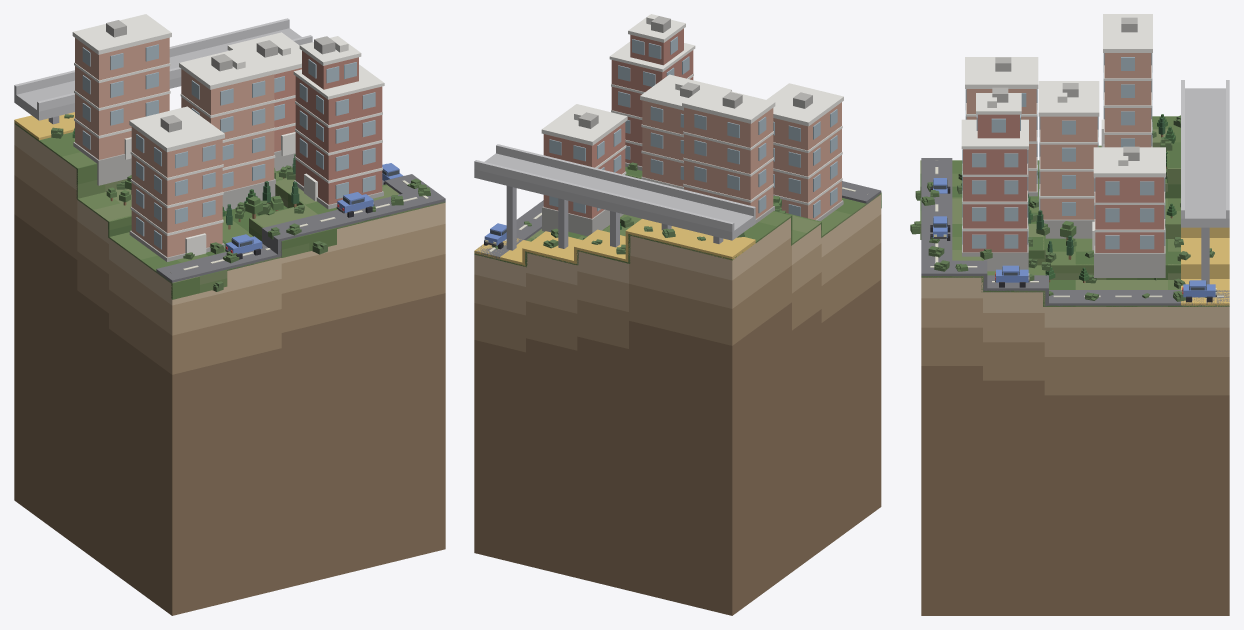
File: block_7_engineered_15.glb
3 views of the same model, side by side, from view 1: azimuth 30°, elevation 25°; view 2: azimuth 150°, elevation 25°; view 3: azimuth 270°, elevation 25° (orthographic). The views are drawn at different scales.
Visible parts, largest first — view 1: Patch_UpperLeft_b04_ES, Res_UL_09_ES, Res_UL_06_ES, Res_UL_05_ES, Res_UL_08_ES, Green_UpperLeft_j4_b04_ES, Roads_UpperLeft_b04_ES, Bridge_UpperLeft_b04_ES, Res_UL_07_ES, Paver_UpperLeft_b04_ES, ULCar_007_ES, ULCar_006_ES; view 2: Patch_UpperLeft_b04_ES, Bridge_UpperLeft_b04_ES, Res_UL_05_ES, Res_UL_06_ES, Res_UL_09_ES, Res_UL_07_ES, Res_UL_08_ES, Paver_UpperLeft_b04_ES, Green_UpperLeft_j4_b04_ES, Roads_UpperLeft_b04_ES; view 3: Patch_UpperLeft_b04_ES, Res_UL_09_ES, Res_UL_07_ES, Res_UL_08_ES, Green_UpperLeft_j4_b04_ES, Bridge_UpperLeft_b04_ES, Res_UL_05_ES, Roads_UpperLeft_b04_ES, Res_UL_06_ES, Paver_UpperLeft_b04_ES, ULCar_012_ES, ULCar_011_ES.
Boxes of the visible parts, x1,y1,x2,y2 form: Patch_UpperLeft_b04_ES: [14, 124, 445, 615]; Res_UL_09_ES: [293, 36, 384, 209]; Res_UL_06_ES: [129, 106, 224, 261]; Res_UL_05_ES: [72, 14, 171, 185]; Res_UL_08_ES: [179, 47, 276, 210]; Green_UpperLeft_j4_b04_ES: [14, 122, 445, 299]; Roads_UpperLeft_b04_ES: [156, 174, 445, 282]; Bridge_UpperLeft_b04_ES: [14, 18, 312, 124]; Res_UL_07_ES: [227, 32, 301, 171]; Paver_UpperLeft_b04_ES: [14, 112, 74, 140]; ULCar_007_ES: [336, 192, 374, 217]; ULCar_006_ES: [225, 234, 262, 259]; Patch_UpperLeft_b04_ES: [474, 194, 881, 615]; Bridge_UpperLeft_b04_ES: [474, 144, 755, 250]; Res_UL_05_ES: [682, 85, 775, 226]; Res_UL_06_ES: [766, 83, 843, 221]; Res_UL_09_ES: [609, 14, 695, 170]; Res_UL_07_ES: [541, 104, 627, 236]; Res_UL_08_ES: [640, 74, 731, 189]; Paver_UpperLeft_b04_ES: [474, 219, 755, 266]; Green_UpperLeft_j4_b04_ES: [474, 167, 881, 267]; Roads_UpperLeft_b04_ES: [476, 181, 881, 259]; Patch_UpperLeft_b04_ES: [921, 277, 1229, 615]; Res_UL_09_ES: [961, 87, 1028, 271]; Res_UL_07_ES: [1092, 146, 1165, 277]; Res_UL_08_ES: [1038, 81, 1099, 238]; Green_UpperLeft_j4_b04_ES: [920, 116, 1229, 306]; Bridge_UpperLeft_b04_ES: [1181, 80, 1229, 284]; Res_UL_05_ES: [1101, 14, 1152, 147]; Roads_UpperLeft_b04_ES: [921, 158, 1229, 306]; Res_UL_06_ES: [965, 57, 1038, 196]; Paver_UpperLeft_b04_ES: [1181, 227, 1229, 306]; ULCar_012_ES: [995, 265, 1029, 287]; ULCar_011_ES: [1182, 280, 1216, 302].
Bounding box in the file's own units: 9.5 × 16.62 × 9.84.
